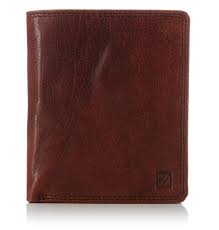monedero: (25, 9, 190, 204)
